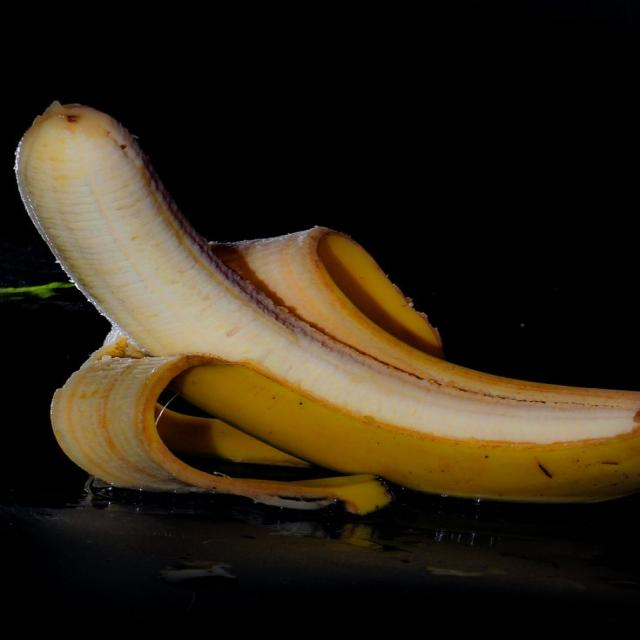banana: (17, 104, 639, 501)
